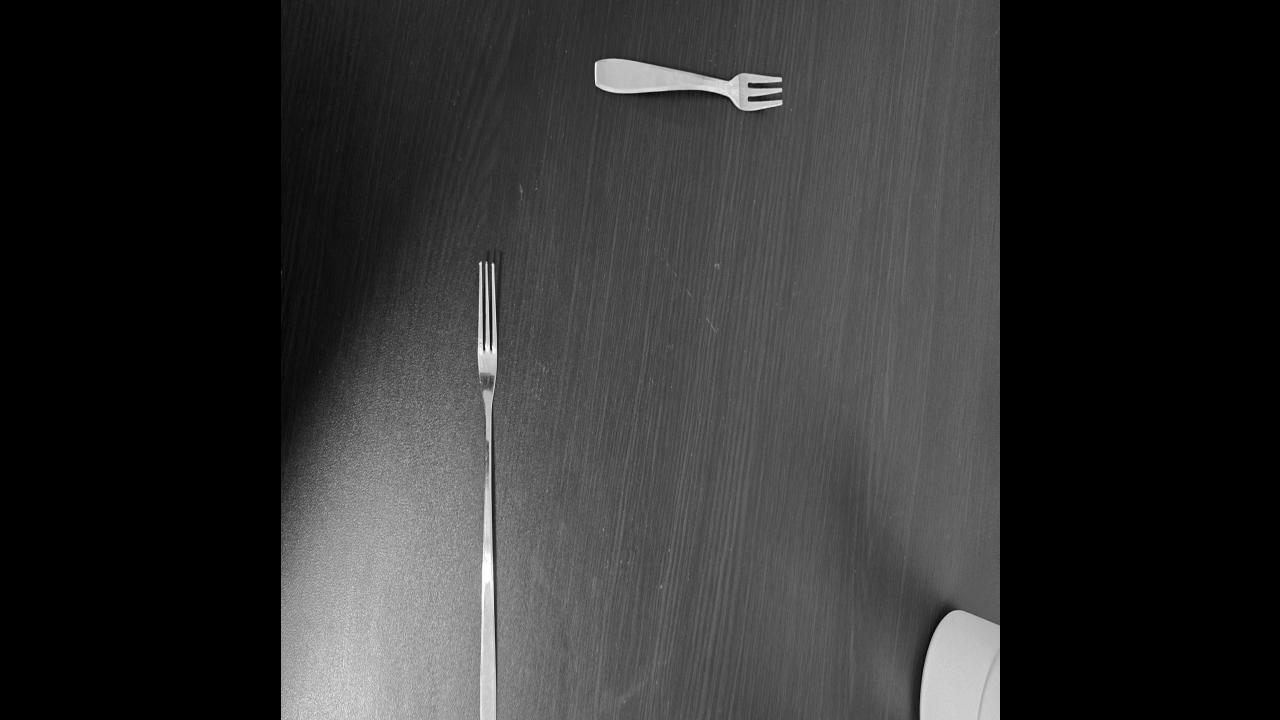fork: (590, 51, 784, 115), (475, 258, 501, 720)
